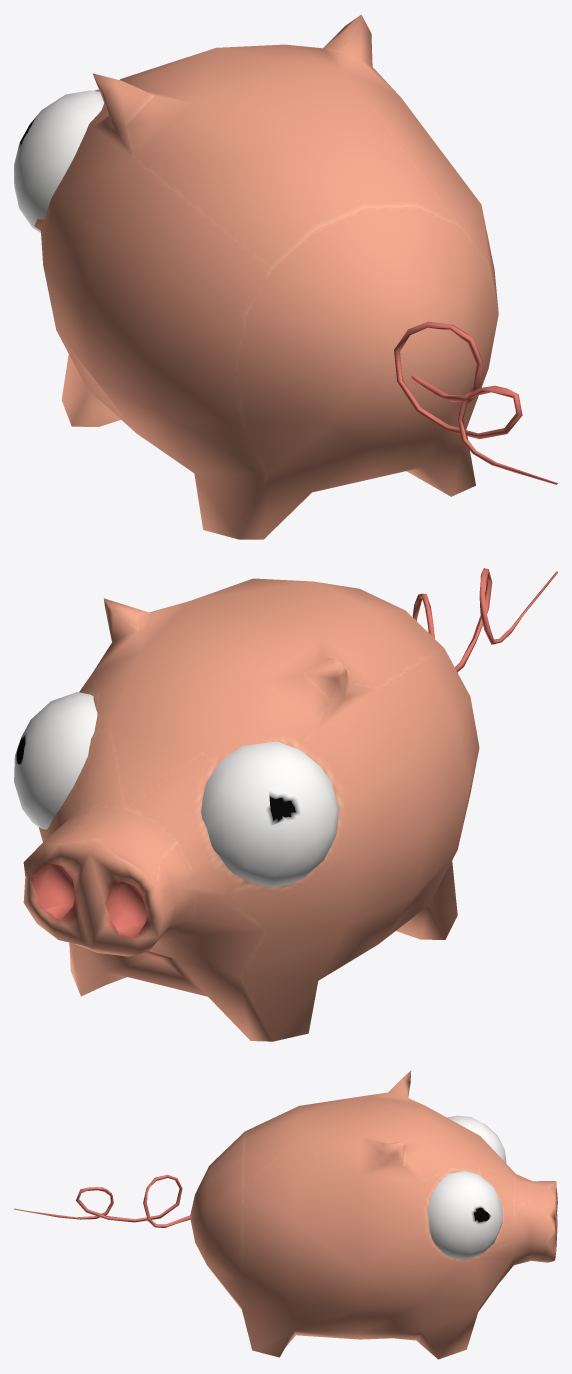
Rendered from plushpig.fbx.
The picture shows the model from 3 angles, top to bottom: view 1: azimuth 30°, elevation 25°; view 2: azimuth 150°, elevation 25°; view 3: azimuth 270°, elevation 25°; orthographic projection. The views are drawn at different scales.
Visible parts, largest first — view 1: pig.001; view 2: pig.001; view 3: pig.001.
Boxes of the visible parts, x1,y1,x2,y2 form: pig.001: [14, 14, 557, 539]; pig.001: [14, 568, 557, 1041]; pig.001: [14, 1070, 557, 1359].
Bounding box in the file's own units: 0.2601 × 0.2586 × 0.5823.
